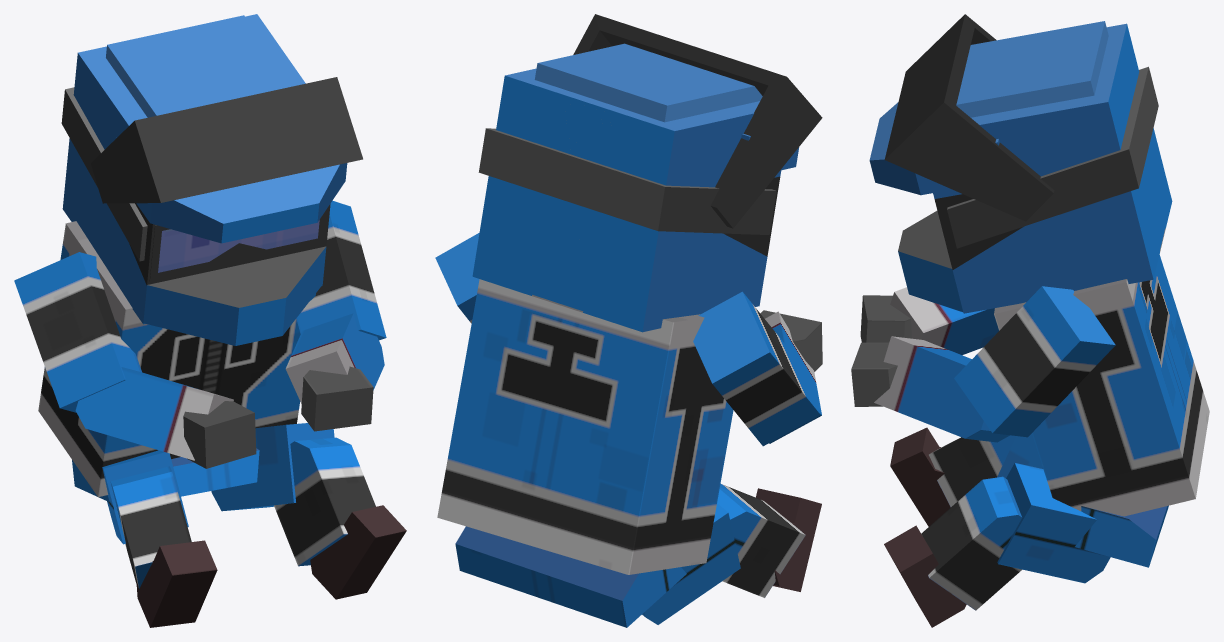
Rendered from Kart.fbx.
3 views of the same model, side by side, from view 1: azimuth 30°, elevation 25°; view 2: azimuth 150°, elevation 25°; view 3: azimuth 270°, elevation 25° (orthographic). The views are drawn at different scales.
Parts seen in each view (by area): view 1: Motorcross_Helmet, Racing_Helmet_Open, Body, UpperArm_Right, LowerLeg_Left, LowerArm_Right, UpperArm_Left, LowerLeg_Right, Foot_Left, Foot_Right, LowerArm_Left, UpperLeg_Left (+5 smaller); view 2: Body, Motorcross_Helmet, Racing_Helmet_Open, UpperArm_Right, LowerBody, LowerLeg_Right, UpperLeg_Right, Foot_Right, UpperArm_Left, Hand_Right, Racing_Helmet, LowerArm_Right; view 3: Motorcross_Helmet, Body, Racing_Helmet, Racing_Helmet_Open, UpperArm_Left, LowerLeg_Left, UpperLeg_Left, LowerArm_Left, LowerArm_Right, LowerBody, Foot_Left, LowerLeg_Right (+4 smaller).
Boxes of the visible parts, x1,y1,x2,y2 form: Motorcross_Helmet: (61, 14, 347, 345); Racing_Helmet_Open: (62, 54, 362, 323); Body: (38, 221, 315, 496); UpperArm_Right: (14, 252, 141, 412); LowerLeg_Left: (274, 437, 375, 566); LowerArm_Right: (75, 367, 233, 460); UpperArm_Left: (296, 200, 386, 340); LowerLeg_Right: (110, 466, 191, 588); Foot_Left: (310, 505, 406, 599); Foot_Right: (136, 540, 217, 627); LowerArm_Left: (285, 313, 384, 403); UpperLeg_Left: (211, 423, 334, 511); Body: (437, 279, 733, 574); Motorcross_Helmet: (473, 43, 799, 330); Racing_Helmet_Open: (573, 14, 822, 331); UpperArm_Right: (693, 291, 820, 446); LowerBody: (455, 526, 686, 627); LowerLeg_Right: (717, 483, 805, 597); UpperLeg_Right: (642, 503, 740, 624); Foot_Right: (756, 488, 821, 591); UpperArm_Left: (435, 232, 479, 323); Hand_Right: (760, 310, 822, 371); Racing_Helmet: (472, 122, 780, 332); LowerArm_Right: (765, 311, 821, 443); Motorcross_Helmet: (869, 21, 1171, 311); Body: (994, 255, 1209, 516); Racing_Helmet: (933, 103, 1172, 313); Racing_Helmet_Open: (884, 14, 1171, 278); UpperArm_Left: (954, 286, 1115, 437); LowerLeg_Left: (921, 476, 1022, 610); UpperLeg_Left: (997, 463, 1110, 583); LowerArm_Left: (874, 336, 1009, 442); LowerArm_Right: (890, 287, 998, 355); LowerBody: (1075, 505, 1168, 567); Foot_Left: (884, 525, 966, 627); LowerLeg_Right: (929, 435, 1016, 507).
Bounding box in the file's own units: 153 × 236 × 146.
Materials: 1 (1 with a texture image).
